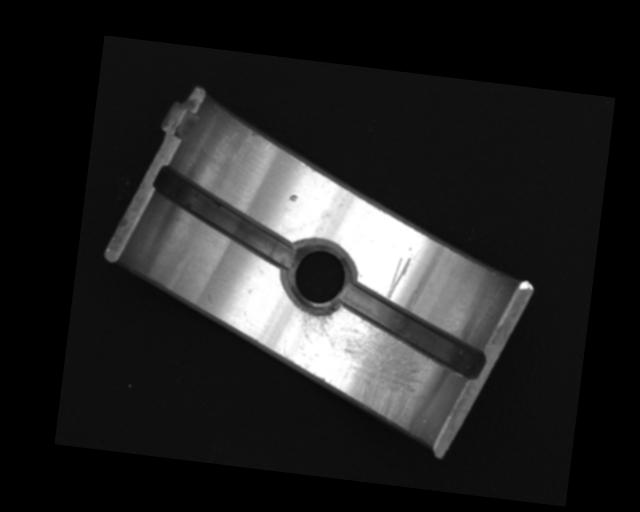bruise: (287, 193, 298, 204)
gap: (146, 166, 307, 270), (335, 281, 493, 380)
hole: (278, 238, 361, 317)
nick: (386, 254, 412, 302)
scratch: (281, 305, 428, 432)
